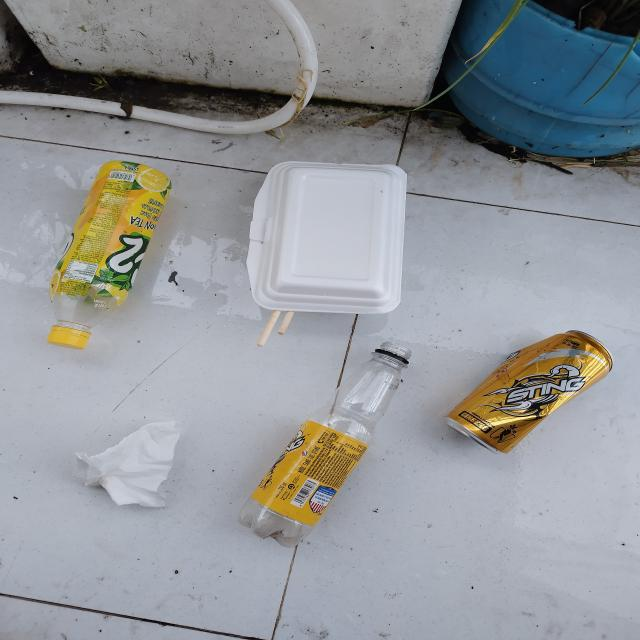bottle: (237, 342, 413, 548), (46, 161, 176, 350)
can: (443, 330, 614, 456)
foam box: (246, 160, 407, 314)
napkin: (72, 420, 180, 510)
